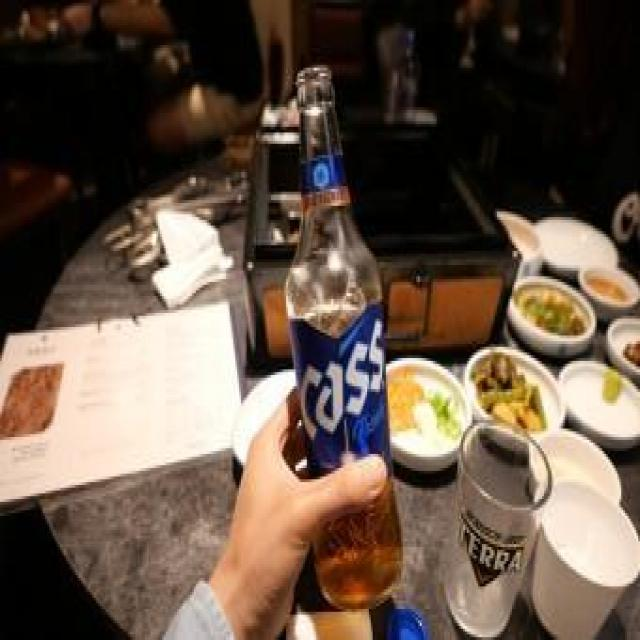beer-bottle: (282, 22, 418, 620)
